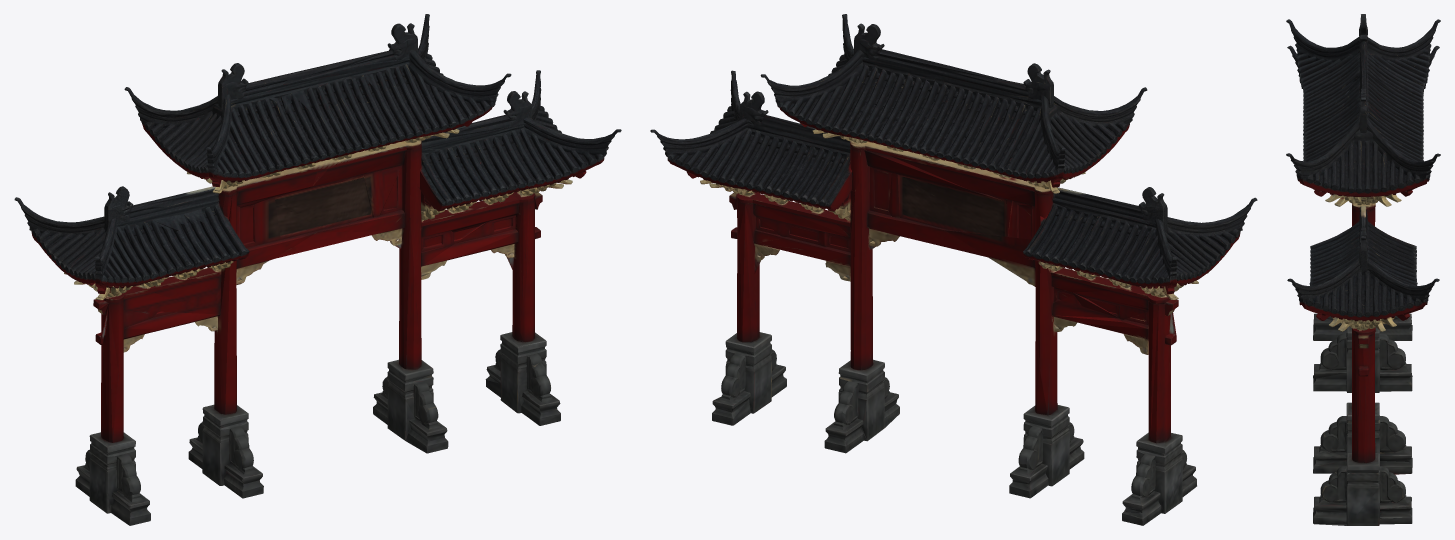
File: paifang_gate.glb
3 renders of one model, left to right at view 1: azimuth 30°, elevation 25°; view 2: azimuth 150°, elevation 25°; view 3: azimuth 270°, elevation 25°, orthographic. The views are drawn at different scales.
Parts seen in each view (by area): view 1: Mesh_0; view 2: Mesh_0; view 3: Mesh_0.
Part boxes in pixels (left/top/right/bottom): Mesh_0: left=14, top=14, right=621, bottom=525; Mesh_0: left=650, top=14, right=1257, bottom=525; Mesh_0: left=1286, top=14, right=1440, bottom=525.
Size of the model in its own units: 13 by 9.67 by 3.62.
Materials: 1 (1 with a texture image).
